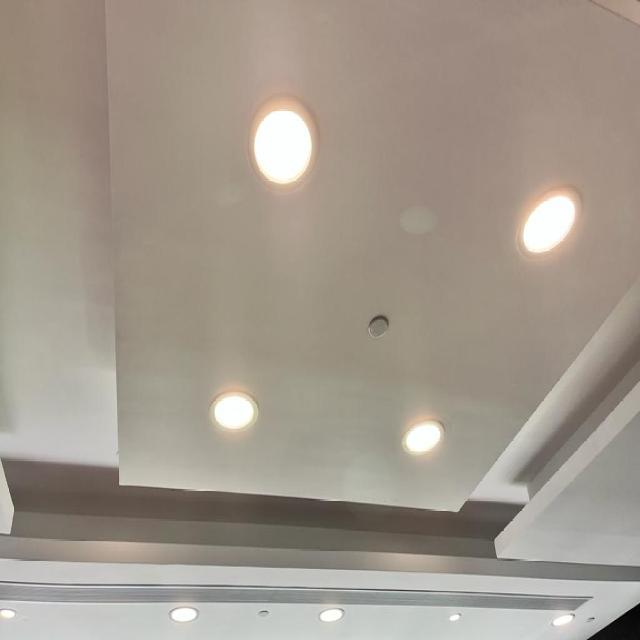Light-Opened: (243, 90, 321, 194), (509, 179, 587, 261), (204, 384, 263, 438), (397, 410, 448, 466), (165, 600, 203, 633), (315, 604, 347, 630), (547, 605, 576, 633), (447, 606, 463, 627)
